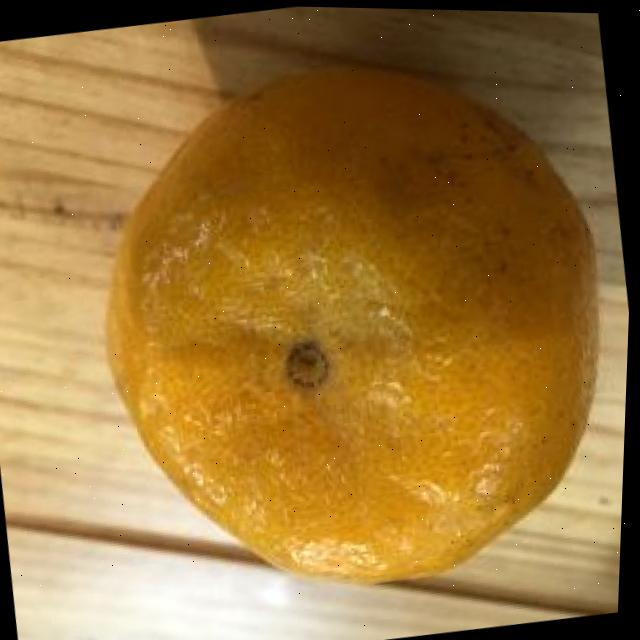Wet: (50, 25, 639, 623)
